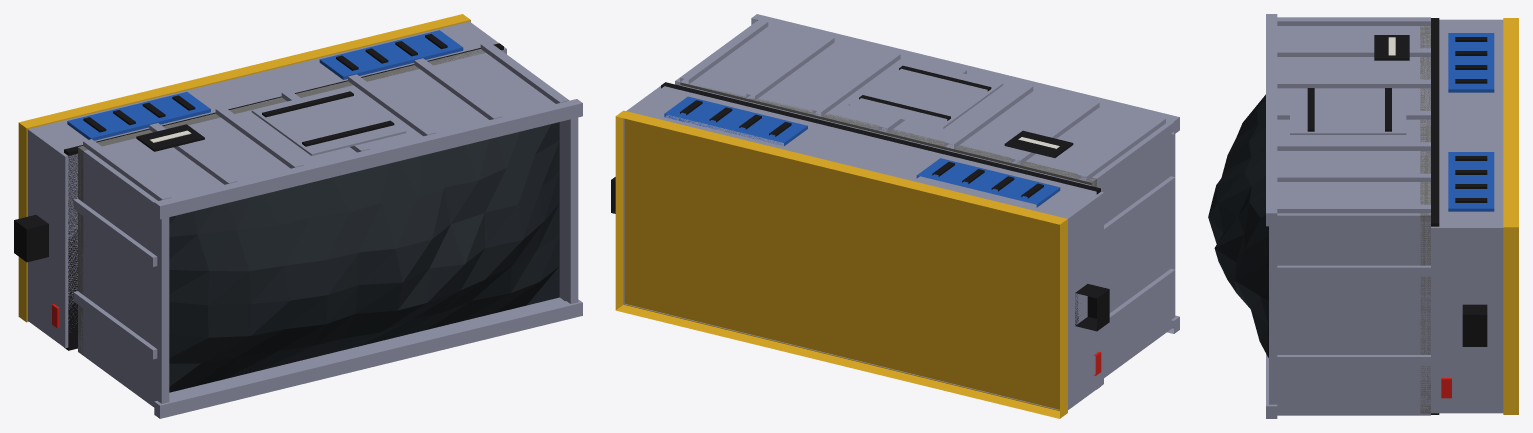
Rendered from loaded.glb.
3 views of the same model, side by side, from view 1: azimuth 30°, elevation 25°; view 2: azimuth 150°, elevation 25°; view 3: azimuth 270°, elevation 25° (orthographic). The views are drawn at different scales.
Visible parts, largest first — view 1: loaded_coal, loaded_body, loaded_base, loaded_stripe, loaded_door1, loaded_pod10, loaded_pod11, loaded_base_lip, loaded_coupler-1, loaded_panel1, loaded_hinge13.6999999999999997, loaded_hinge12.6; view 2: loaded_stripe, loaded_body, loaded_base, loaded_door1, loaded_pod11, loaded_pod10, loaded_base_lip, loaded_coupler-1, loaded_panel1; view 3: loaded_body, loaded_base, loaded_coal, loaded_stripe, loaded_door1, loaded_pod10, loaded_pod11, loaded_base_lip, loaded_coupler1, loaded_panel1, loaded_hinge13.6999999999999997, loaded_hinge12.6.
Part boxes in pixels (left/top/right/bottom): loaded_coal: left=169, top=122, right=559, bottom=392; loaded_body: left=73, top=42, right=582, bottom=418; loaded_base: left=27, top=21, right=506, bottom=348; loaded_stripe: left=18, top=14, right=470, bottom=322; loaded_door1: left=251, top=87, right=406, bottom=155; loaded_pod10: left=67, top=92, right=210, bottom=140; loaded_pod11: left=319, top=30, right=463, bottom=79; loaded_base_lip: left=64, top=43, right=503, bottom=350; loaded_coupler-1: left=14, top=215, right=48, bottom=262; loaded_panel1: left=136, top=124, right=204, bottom=151; loaded_hinge13.6999999999999997: left=302, top=120, right=394, bottom=146; loaded_hinge12.6: left=262, top=91, right=353, bottom=117; loaded_stripe: left=615, top=110, right=1067, bottom=418; loaded_body: left=675, top=14, right=1179, bottom=377; loaded_base: left=624, top=86, right=1103, bottom=410; loaded_door1: left=848, top=60, right=1003, bottom=128; loaded_pod11: left=664, top=96, right=807, bottom=145; loaded_pod10: left=916, top=158, right=1060, bottom=207; loaded_base_lip: left=661, top=82, right=1100, bottom=388; loaded_coupler-1: left=1075, top=284, right=1109, bottom=331; loaded_panel1: left=1004, top=130, right=1073, bottom=157; loaded_body: left=1266, top=14, right=1430, bottom=418; loaded_base: left=1431, top=19, right=1503, bottom=413; loaded_coal: left=1208, top=94, right=1268, bottom=357; loaded_stripe: left=1503, top=18, right=1518, bottom=414; loaded_door1: left=1290, top=88, right=1406, bottom=134; loaded_pod10: left=1448, top=33, right=1494, bottom=92; loaded_pod11: left=1448, top=152, right=1494, bottom=211; loaded_base_lip: left=1431, top=18, right=1439, bottom=414; loaded_coupler1: left=1462, top=304, right=1487, bottom=346; loaded_panel1: left=1374, top=35, right=1409, bottom=60; loaded_hinge13.6999999999999997: left=1307, top=88, right=1314, bottom=131; loaded_hinge12.6: left=1385, top=88, right=1391, bottom=131.
Bounding box in the file's own units: 7.7 × 3.37 × 4.41.
